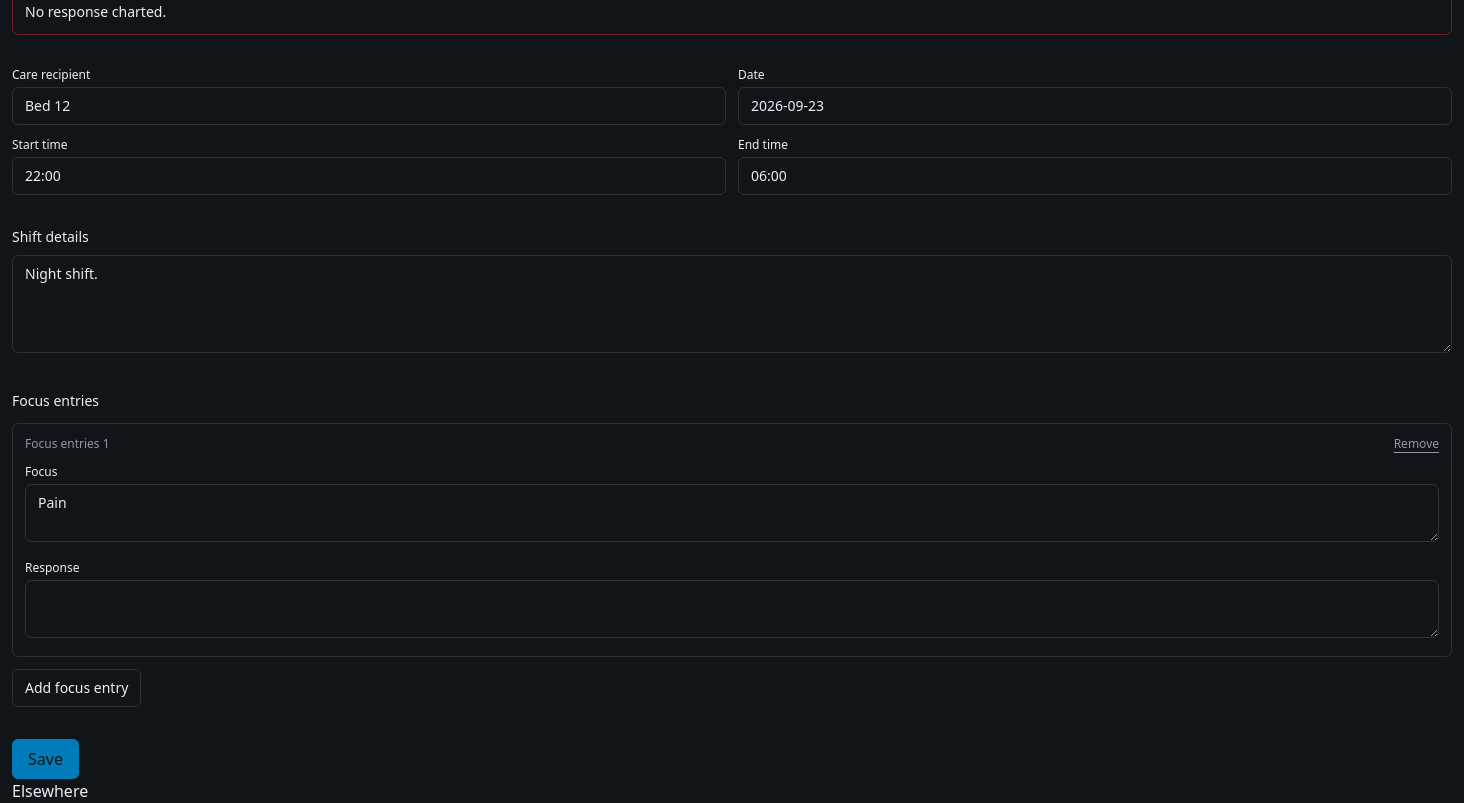
it: NoteEditor › says "another version" rather than inventing version 0 for a malformed 409
(page scrolled)
Click the button "Save": [45, 759] box [12, 739, 79, 779]
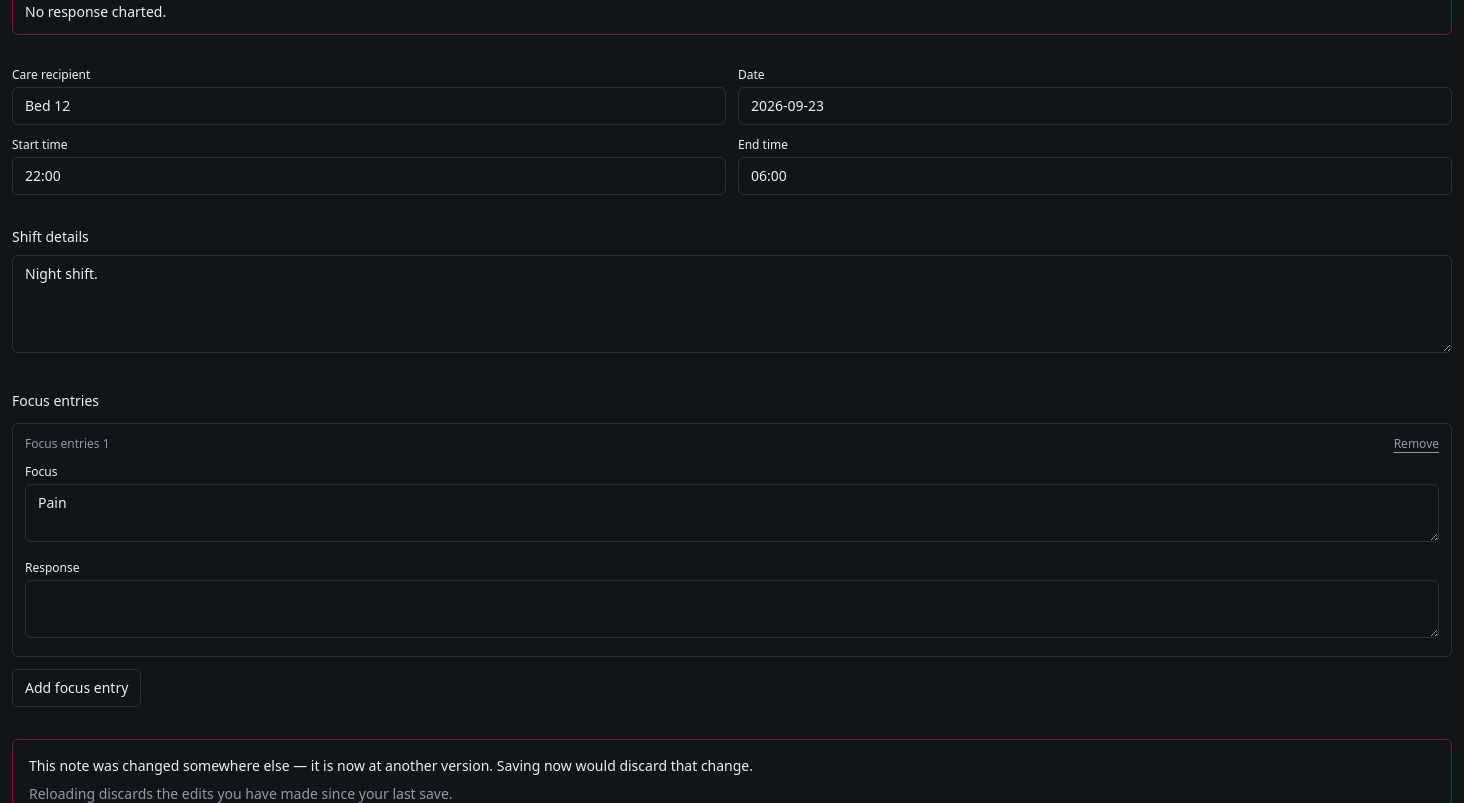
Check: the text "another version" is shown, box [385, 756, 489, 775]
